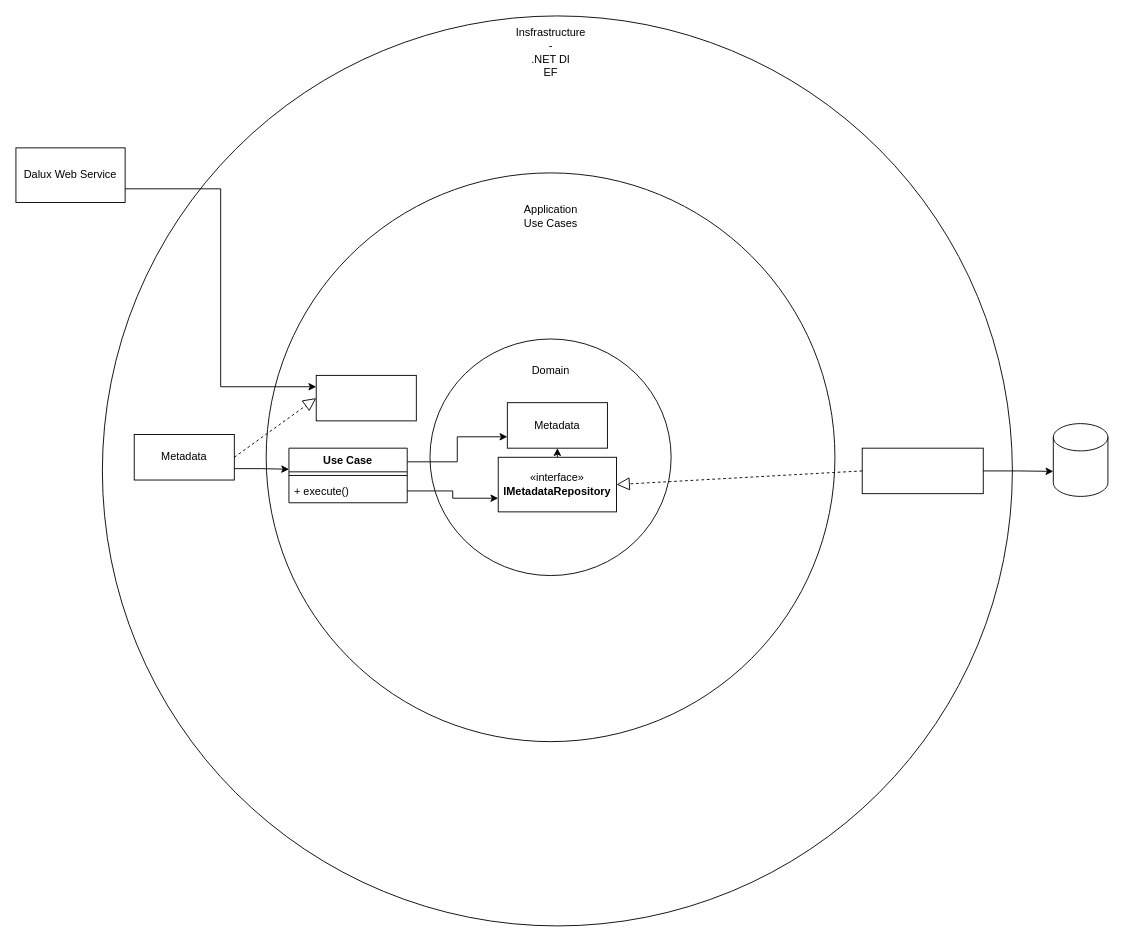
This 1124x942 diagram has some shape labels left out. Each missing label, with the centre of its shape:
"EFMetadataRepository" belongs at [922,470].
"«interface» IMetadataService" belongs at [365,397].
